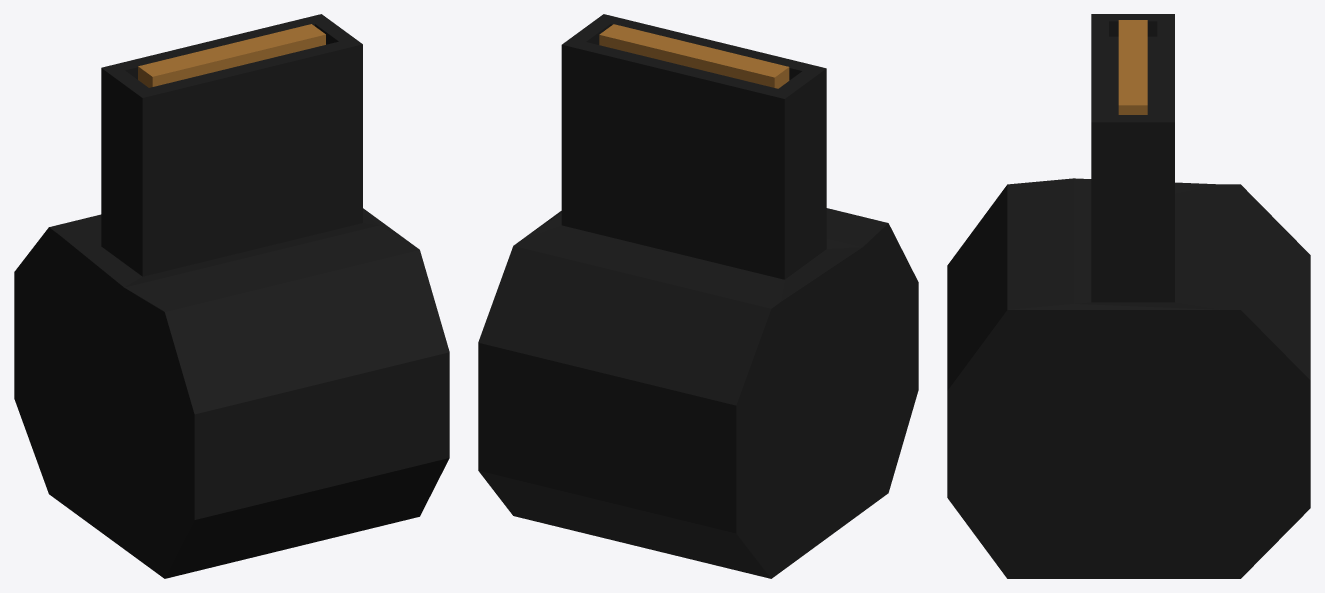
Rendered from TestMagazine.fbx.
3 views of the same model, side by side, from view 1: azimuth 30°, elevation 25°; view 2: azimuth 150°, elevation 25°; view 3: azimuth 270°, elevation 25° (orthographic).
Parts seen in each view (by area): view 1: Cube; view 2: Cube; view 3: Cube.
Boxes of the visible parts, x1,y1,x2,y2 form: Cube: [14, 14, 449, 578]; Cube: [478, 14, 918, 578]; Cube: [947, 14, 1310, 578].
Bounding box in the file's own units: 9.82 × 16.11 × 11.67.
Materials: 1 (1 with a texture image).
